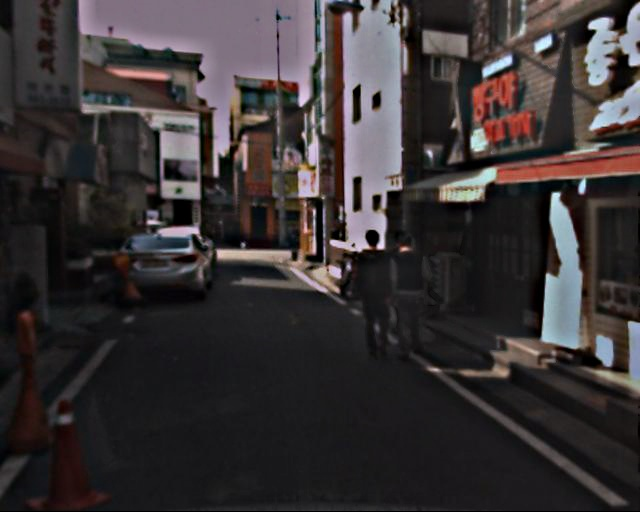person: (348, 229, 400, 356), (383, 236, 434, 360), (377, 230, 425, 346)
